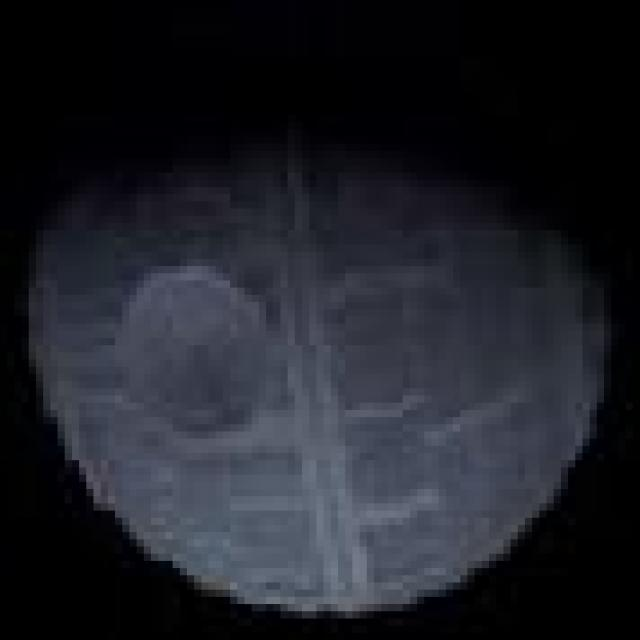Death Star: (14, 115, 618, 618)
